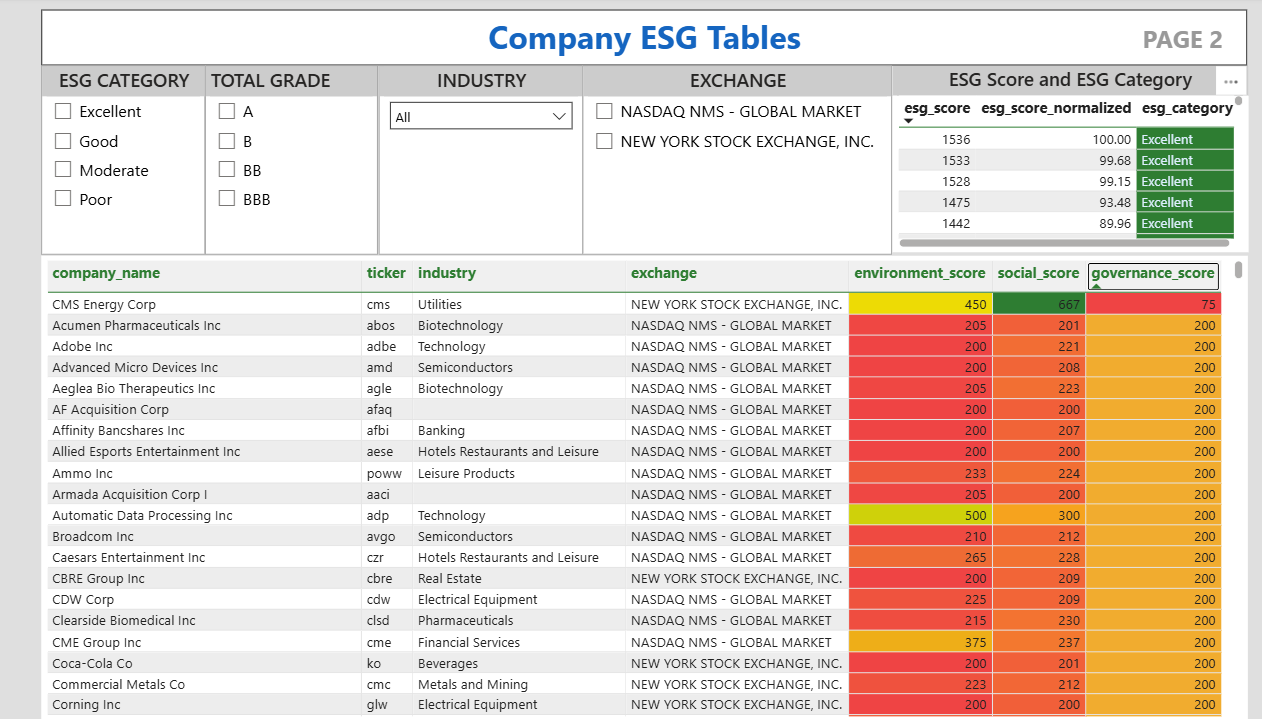

The page's visual inventory and layout, read from the dashboard file:
{"tool":"powerbi","page":{"name":"Page 2","canvas":[1280,720],"ordinal":1},"visuals":[{"type":"tableEx","fields":{"Values":["esg.company_name","esg.ticker","esg.industry","esg.exchange","esg.environment_score","esg.social_score","esg.governance_score"]},"box":[41.7,257.2,1200.9,463.7],"z":0},{"type":"tableEx","title":"ESG Score and ESG Category","fields":{"Values":["esg.esg_score","esg.esg_score_normalized","esg.esg_category"]},"box":[887.7,68.6,354.1,185.8],"z":1000},{"type":"textbox","box":[41.1,12.5,1200.6,56.1],"z":2000},{"type":"slicer","title":"ESG CATEGORY","fields":{"Values":["esg.esg_category"]},"box":[41.1,68.6,163.3,188.3],"z":3000},{"type":"slicer","title":"INDUSTRY","fields":{"Values":["esg.industry"]},"box":[376.5,68.6,203.2,188.3],"z":4000},{"type":"slicer","title":"EXCHANGE","fields":{"Values":["esg.exchange"]},"box":[579.9,68,308,188],"z":5000},{"type":"slicer","title":"TOTAL GRADE","fields":{"Values":["esg.total_grade"]},"box":[204.5,68.6,172.1,188.3],"z":6000},{"type":"textbox","box":[1132.1,19.9,92.3,43.6],"z":7000}]}

Visuals, with their boxes in screenshot pixels (x1, y1, x2, y2), scaled from the page's 1280x720 canvas onto the 1262x719 screenshot:
tableEx - esg.company_name x esg.ticker: bbox(41, 257, 1225, 718)
"ESG Score and ESG Category" tableEx: bbox(875, 69, 1224, 254)
textbox: bbox(41, 12, 1224, 69)
"ESG CATEGORY" slicer: bbox(41, 69, 202, 257)
"INDUSTRY" slicer: bbox(371, 69, 572, 257)
"EXCHANGE" slicer: bbox(572, 68, 875, 256)
"TOTAL GRADE" slicer: bbox(202, 69, 371, 257)
textbox: bbox(1116, 20, 1207, 63)
